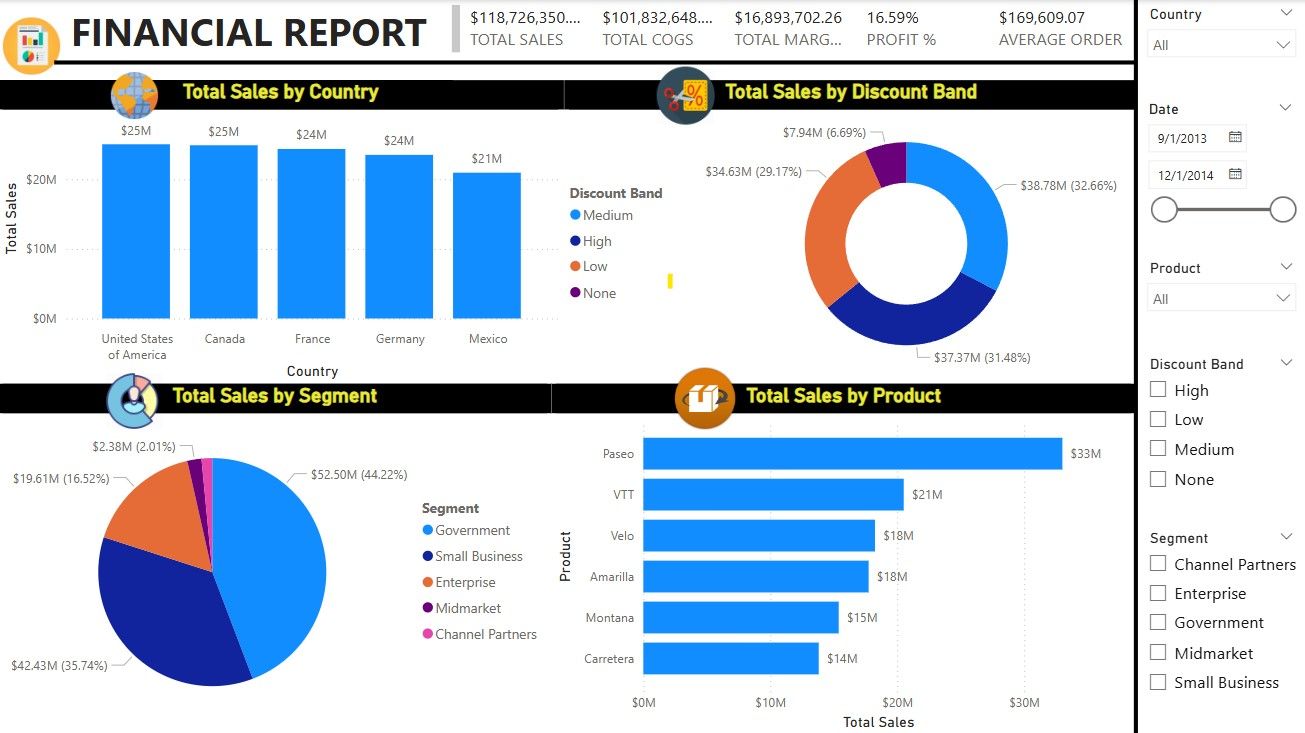

The dashboard page shown, as its layout file describes it:
{"tool":"powerbi","page":{"name":"FINANCIAL REPORT","canvas":[1280,720],"ordinal":0},"visuals":[{"type":"columnChart","fields":{"Category":["financials.Country"],"Y":["financials.TOTAL SALES"]},"box":[0,78.3,553.3,298.3],"z":0},{"type":"pieChart","fields":{"Category":["financials.Segment"],"Y":["financials.TOTAL SALES"]},"box":[0,375,541.7,345],"z":1000},{"type":"donutChart","fields":{"Category":["financials.Discount Band"],"Y":["financials.TOTAL SALES"]},"box":[553.3,78.3,561.7,296.7],"z":2000},{"type":"barChart","fields":{"Y":["financials.TOTAL SALES"],"Category":["financials.Product"]},"box":[541.4,375.7,571.4,344.3],"z":3000},{"type":"multiRowCard","fields":{"Values":["financials.TOTAL SALES","financials.TOTAL COST OF GOOD SALES","financials.TOTAL MARGIN","financials.PROFIT %","financials.AVERAGE ORDER"]},"box":[444.6,0,668.3,78.2],"z":4000},{"type":"slicer","fields":{"Values":["financials.Country"]},"box":[1114.3,0,165.7,92.9],"z":5000},{"type":"slicer","fields":{"Values":["financials.Date"]},"box":[1112.9,92.9,165.7,155.7],"z":6000},{"type":"slicer","fields":{"Values":["financials.Product"]},"box":[1114.3,248.6,165.7,78.6],"z":7000},{"type":"slicer","fields":{"Values":["financials.Discount Band"]},"box":[1114.3,342.9,165.7,170],"z":8000},{"type":"slicer","fields":{"Values":["financials.Segment"]},"box":[1114.3,512.9,165.7,188.6],"z":9000},{"type":"textbox","box":[41.2,0,415.8,57.6],"z":10000},{"type":"image","box":[0,12.3,65.9,65.9],"z":11000},{"type":"shape","box":[54.9,22,1059.4,78.2],"z":12000},{"type":"shape","box":[963.3,0,299.1,720.4],"z":13000},{"type":"image","box":[100.2,359.5,65.9,65.9],"z":14000},{"type":"image","box":[654.5,352.7,75.5,75.5],"z":15000},{"type":"image","box":[640,58.3,66.7,70],"z":16000},{"type":"image","box":[100,58.3,66.7,70],"z":17000}]}

Visuals, with their boxes in screenshot pixels (x1, y1, x2, y2):
columnChart - financials.Country x financials.TOTAL SALES: box(0, 57, 527, 380)
pieChart - financials.Segment x financials.TOTAL SALES: box(0, 378, 514, 732)
donutChart - financials.Discount Band x financials.TOTAL SALES: box(527, 57, 1134, 378)
barChart - financials.TOTAL SALES x financials.Product: box(514, 379, 1131, 732)
multiRowCard - financials.TOTAL SALES x financials.TOTAL COST OF GOOD SALES: box(409, 0, 1131, 57)
slicer - financials.Country: box(1133, 0, 1304, 73)
slicer - financials.Date: box(1131, 73, 1304, 241)
slicer - financials.Product: box(1133, 241, 1304, 326)
slicer - financials.Discount Band: box(1133, 343, 1304, 527)
slicer - financials.Segment: box(1133, 527, 1304, 731)
textbox: box(0, 0, 423, 35)
shape: box(0, 0, 1133, 81)
shape: box(970, 0, 1293, 732)
image: box(37, 361, 108, 433)
image: box(636, 354, 718, 436)
image: box(620, 36, 692, 111)
image: box(37, 36, 109, 111)
